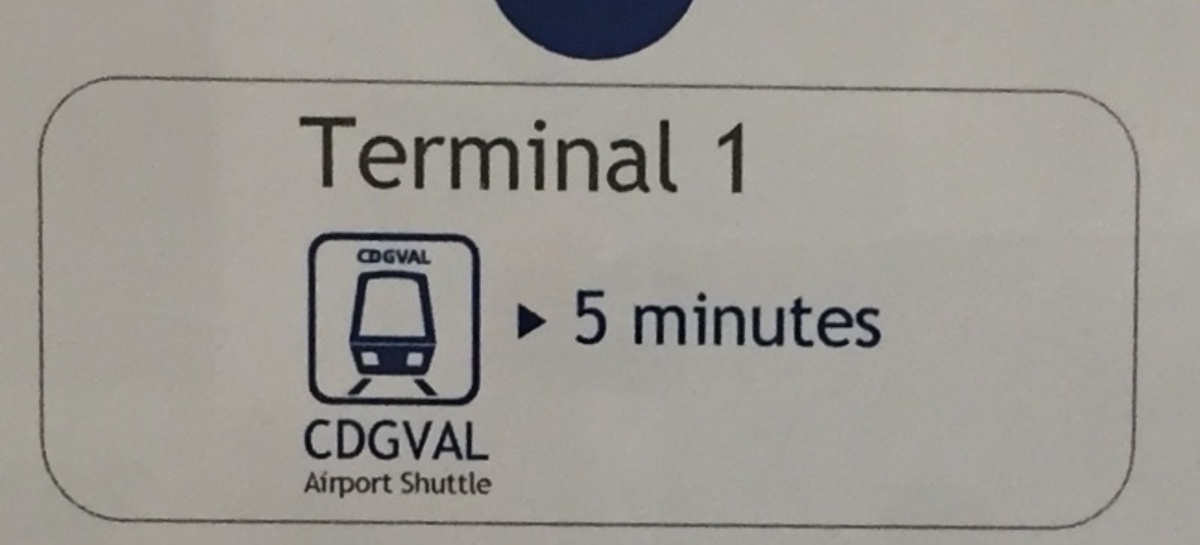text: (305, 115, 320, 194), (321, 115, 336, 194), (337, 115, 352, 194), (353, 115, 368, 194), (369, 115, 384, 194), (385, 115, 400, 194), (401, 115, 416, 194), (417, 115, 432, 194), (433, 115, 448, 194), (449, 115, 464, 194), (465, 115, 480, 194), (481, 115, 496, 194), (497, 115, 512, 194), (513, 115, 528, 194), (529, 115, 544, 194), (545, 115, 560, 194), (561, 115, 576, 194), (577, 115, 592, 194), (593, 115, 608, 194), (609, 115, 624, 194), (625, 115, 640, 194), (641, 115, 656, 194), (657, 115, 672, 194), (721, 121, 736, 196), (641, 290, 656, 349), (657, 290, 672, 349), (673, 290, 688, 349), (689, 290, 704, 349), (705, 290, 720, 349), (721, 290, 736, 349), (737, 290, 752, 349), (753, 290, 768, 349), (769, 290, 784, 349), (785, 290, 800, 349), (801, 290, 816, 349), (817, 290, 832, 349), (833, 290, 848, 349), (849, 290, 864, 349), (865, 290, 880, 349), (577, 289, 592, 346), (593, 289, 608, 346), (305, 416, 320, 463), (321, 416, 336, 463), (337, 416, 352, 463), (353, 416, 368, 463), (369, 416, 384, 463), (385, 416, 400, 463), (401, 416, 416, 463), (417, 416, 432, 463), (433, 416, 448, 463), (449, 416, 464, 463), (465, 416, 480, 463), (737, 121, 744, 196), (298, 115, 304, 194), (673, 115, 679, 194), (305, 470, 320, 499), (321, 470, 336, 499), (337, 470, 352, 499), (353, 470, 368, 499), (369, 470, 384, 499), (481, 416, 490, 463), (401, 470, 416, 496), (417, 470, 432, 496), (433, 470, 448, 496), (449, 470, 464, 496), (465, 470, 480, 496), (481, 470, 496, 496), (634, 290, 640, 349), (369, 245, 384, 266), (385, 245, 400, 266), (401, 245, 416, 266), (417, 245, 432, 266), (355, 245, 368, 266), (385, 470, 394, 499), (717, 121, 720, 196), (301, 416, 304, 463), (574, 289, 576, 346), (881, 290, 882, 349), (609, 289, 610, 346), (433, 245, 435, 266)
